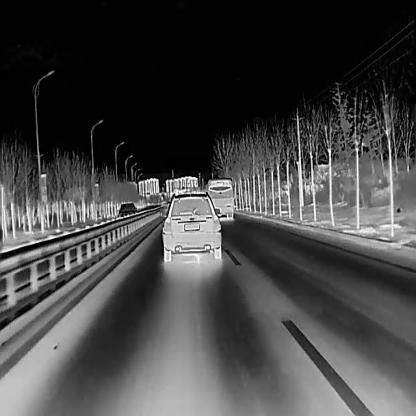car: (161, 190, 221, 262), (205, 177, 233, 220), (117, 202, 136, 223)
